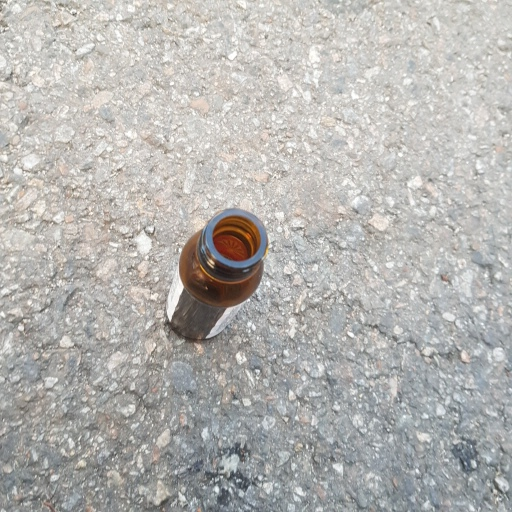Glass_3: (163, 208, 270, 347)
